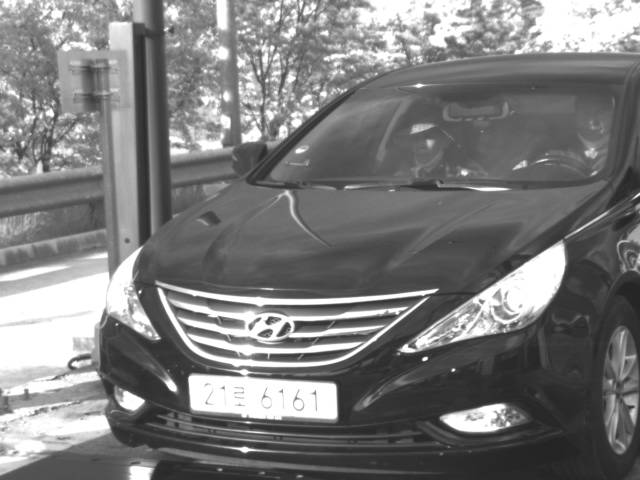car: (90, 49, 640, 480)
plate: (186, 372, 341, 423)
